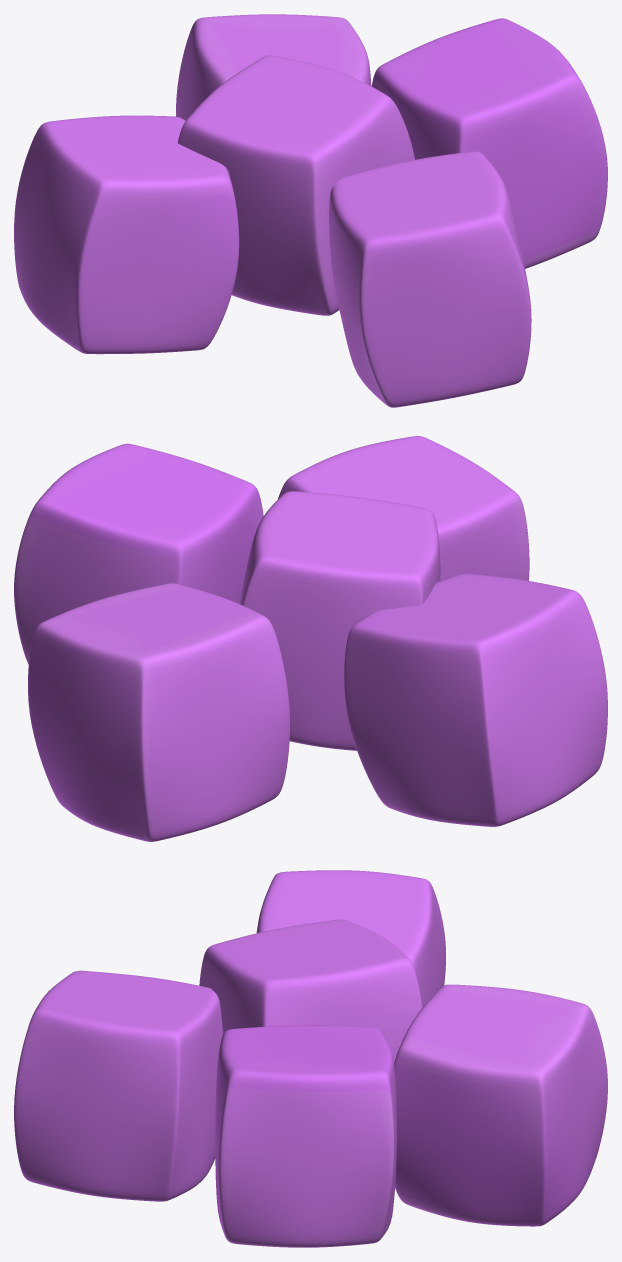
File: OnionCut.fbx
3 renders of one model, top to bottom at view 1: azimuth 30°, elevation 25°; view 2: azimuth 150°, elevation 25°; view 3: azimuth 270°, elevation 25°, orthographic. The views are drawn at different scales.
Visible parts, largest first — view 1: SM_OnionCut; view 2: SM_OnionCut; view 3: SM_OnionCut.
Part boxes in pixels (box(x1,y1,x2,y2)): SM_OnionCut: box(14, 14, 607, 407); SM_OnionCut: box(14, 436, 607, 841); SM_OnionCut: box(14, 870, 607, 1247).
Bounding box in the file's own units: 37.44 × 15.25 × 38.65.
Materials: 1 (1 with a texture image).
